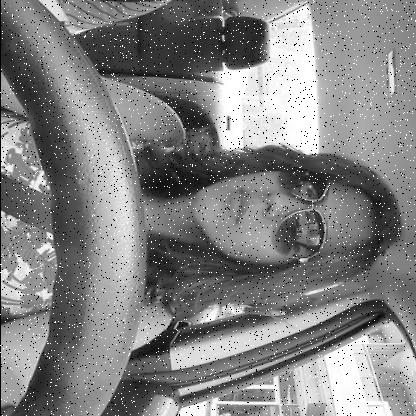seatbelt: (0, 138, 411, 321)
